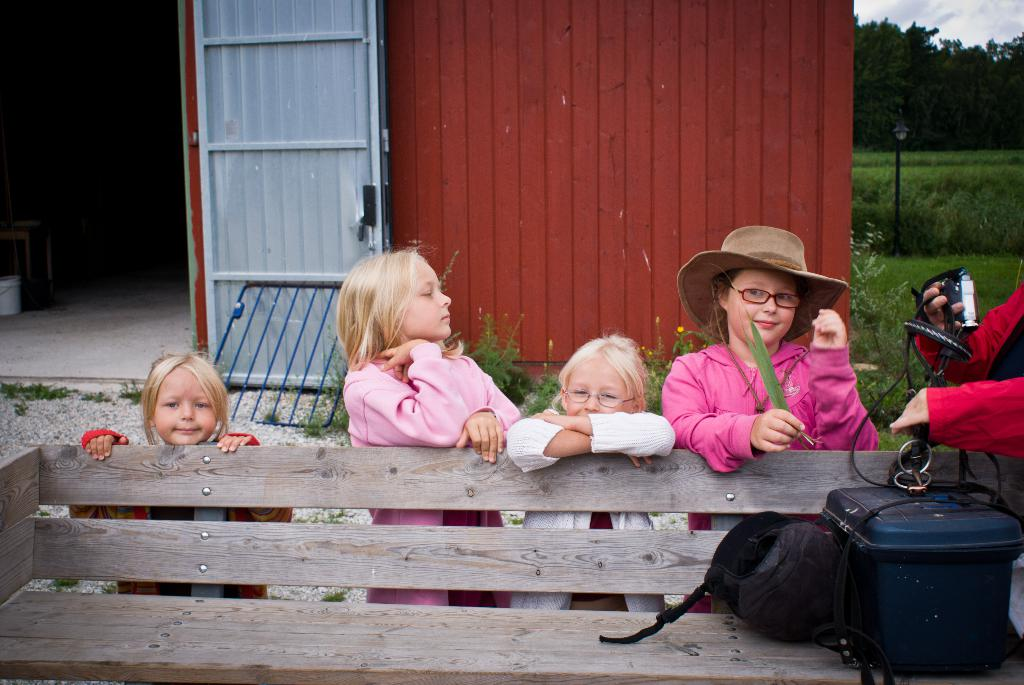Human-face: (725, 267, 796, 346), (152, 368, 216, 447), (401, 256, 453, 341), (566, 358, 635, 420)
